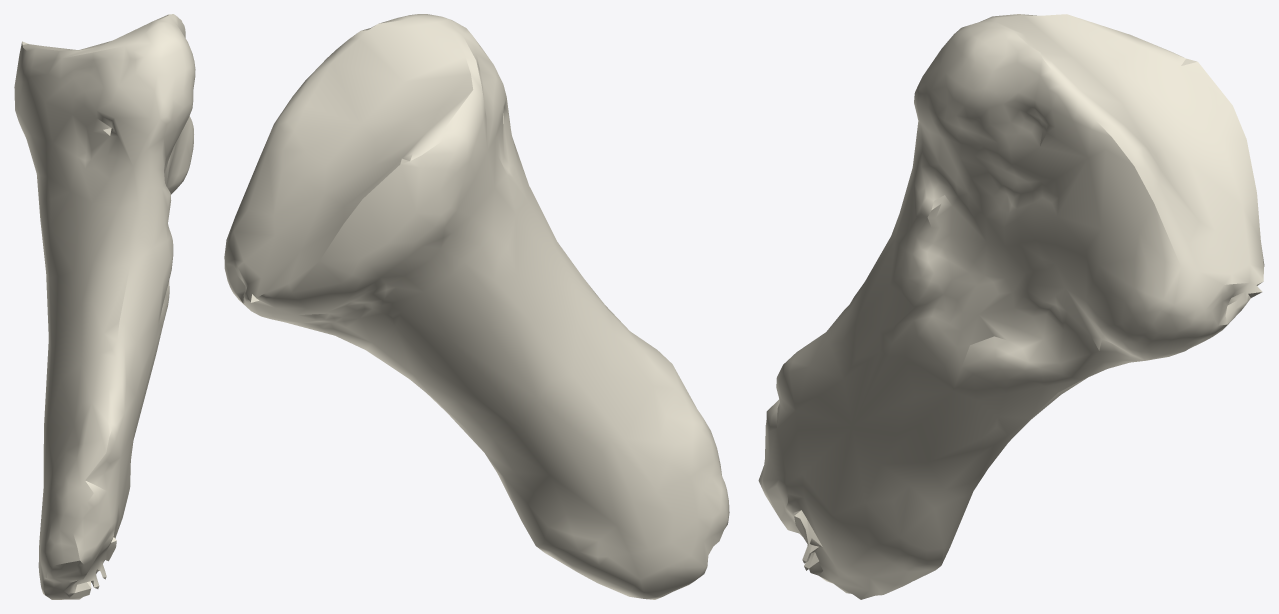
The model's file is fma24459_mm1906.glb.
3 views of the same model, side by side, from view 1: azimuth 30°, elevation 25°; view 2: azimuth 150°, elevation 25°; view 3: azimuth 270°, elevation 25° (orthographic). The views are drawn at different scales.
Visible parts, largest first — view 1: FMA24459_MM1906; view 2: FMA24459_MM1906; view 3: FMA24459_MM1906.
Boxes of the visible parts, x1,y1,x2,y2 form: FMA24459_MM1906: [14, 14, 195, 599]; FMA24459_MM1906: [224, 14, 729, 599]; FMA24459_MM1906: [758, 14, 1264, 599].
Bounding box in the file's own units: 0.0138 × 0.0233 × 0.0162.
